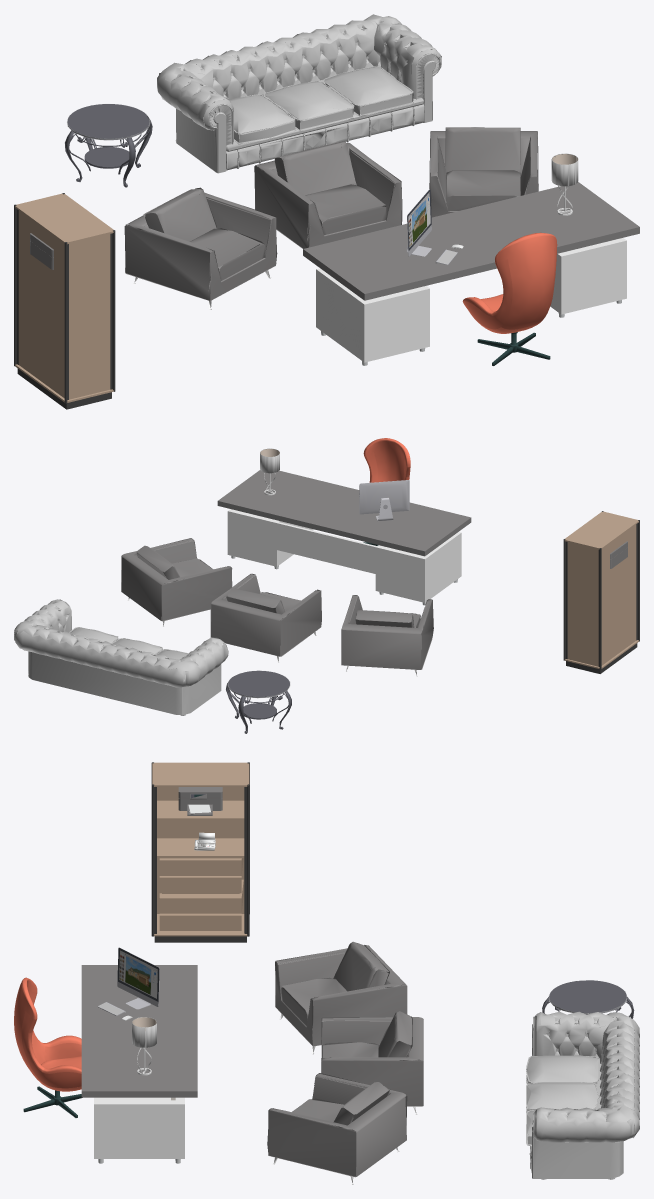
The model's file is officeroomCompressed.fbx.
3 renders of one model, top to bottom at view 1: azimuth 30°, elevation 25°; view 2: azimuth 150°, elevation 25°; view 3: azimuth 270°, elevation 25°, orthographic. The views are drawn at different scales.
Parts seen in each view (by area): view 1: Furniture_09vlzPkaLCOeLmWJF$oAft, Furniture_08_D0onsvDuhAoEkYE0_Mp, Sofa 2_2oII9me8T05u4vgHQPRLaw, Furniture_3O0cMvn6v0zP846iHqH_7w, Table Round Figured_0eum$LBVXBDebhw4Xd$tsv; view 2: Furniture_09vlzPkaLCOeLmWJF$oAft, Furniture_08_D0onsvDuhAoEkYE0_Mp, Sofa 2_2oII9me8T05u4vgHQPRLaw, Furniture_3O0cMvn6v0zP846iHqH_7w, Table Round Figured_0eum$LBVXBDebhw4Xd$tsv; view 3: Furniture_08_D0onsvDuhAoEkYE0_Mp, Furniture_09vlzPkaLCOeLmWJF$oAft, Furniture_3O0cMvn6v0zP846iHqH_7w, Sofa 2_2oII9me8T05u4vgHQPRLaw, Table Round Figured_0eum$LBVXBDebhw4Xd$tsv.
Boxes of the visible parts, x1,y1,x2,y2 form: Furniture_09vlzPkaLCOeLmWJF$oAft: (303,153,639,365); Furniture_08_D0onsvDuhAoEkYE0_Mp: (124,127,538,309); Sofa 2_2oII9me8T05u4vgHQPRLaw: (157,14,441,173); Furniture_3O0cMvn6v0zP846iHqH_7w: (14,193,115,409); Table Round Figured_0eum$LBVXBDebhw4Xd$tsv: (65,103,152,187); Furniture_09vlzPkaLCOeLmWJF$oAft: (217,438,471,605); Furniture_08_D0onsvDuhAoEkYE0_Mp: (121,538,433,676); Sofa 2_2oII9me8T05u4vgHQPRLaw: (14,599,228,715); Furniture_3O0cMvn6v0zP846iHqH_7w: (563,511,639,673); Table Round Figured_0eum$LBVXBDebhw4Xd$tsv: (226,670,291,733); Furniture_08_D0onsvDuhAoEkYE0_Mp: (267,941,423,1184); Furniture_09vlzPkaLCOeLmWJF$oAft: (14,947,197,1163); Furniture_3O0cMvn6v0zP846iHqH_7w: (151,762,249,942); Sofa 2_2oII9me8T05u4vgHQPRLaw: (526,1011,639,1179); Table Round Figured_0eum$LBVXBDebhw4Xd$tsv: (542,980,634,1018).
Bounding box in the file's own units: 640 × 176 × 632.
